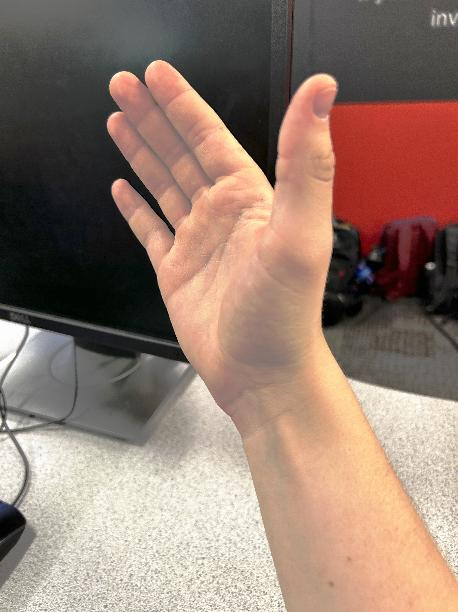Paper: (68, 44, 382, 440)
